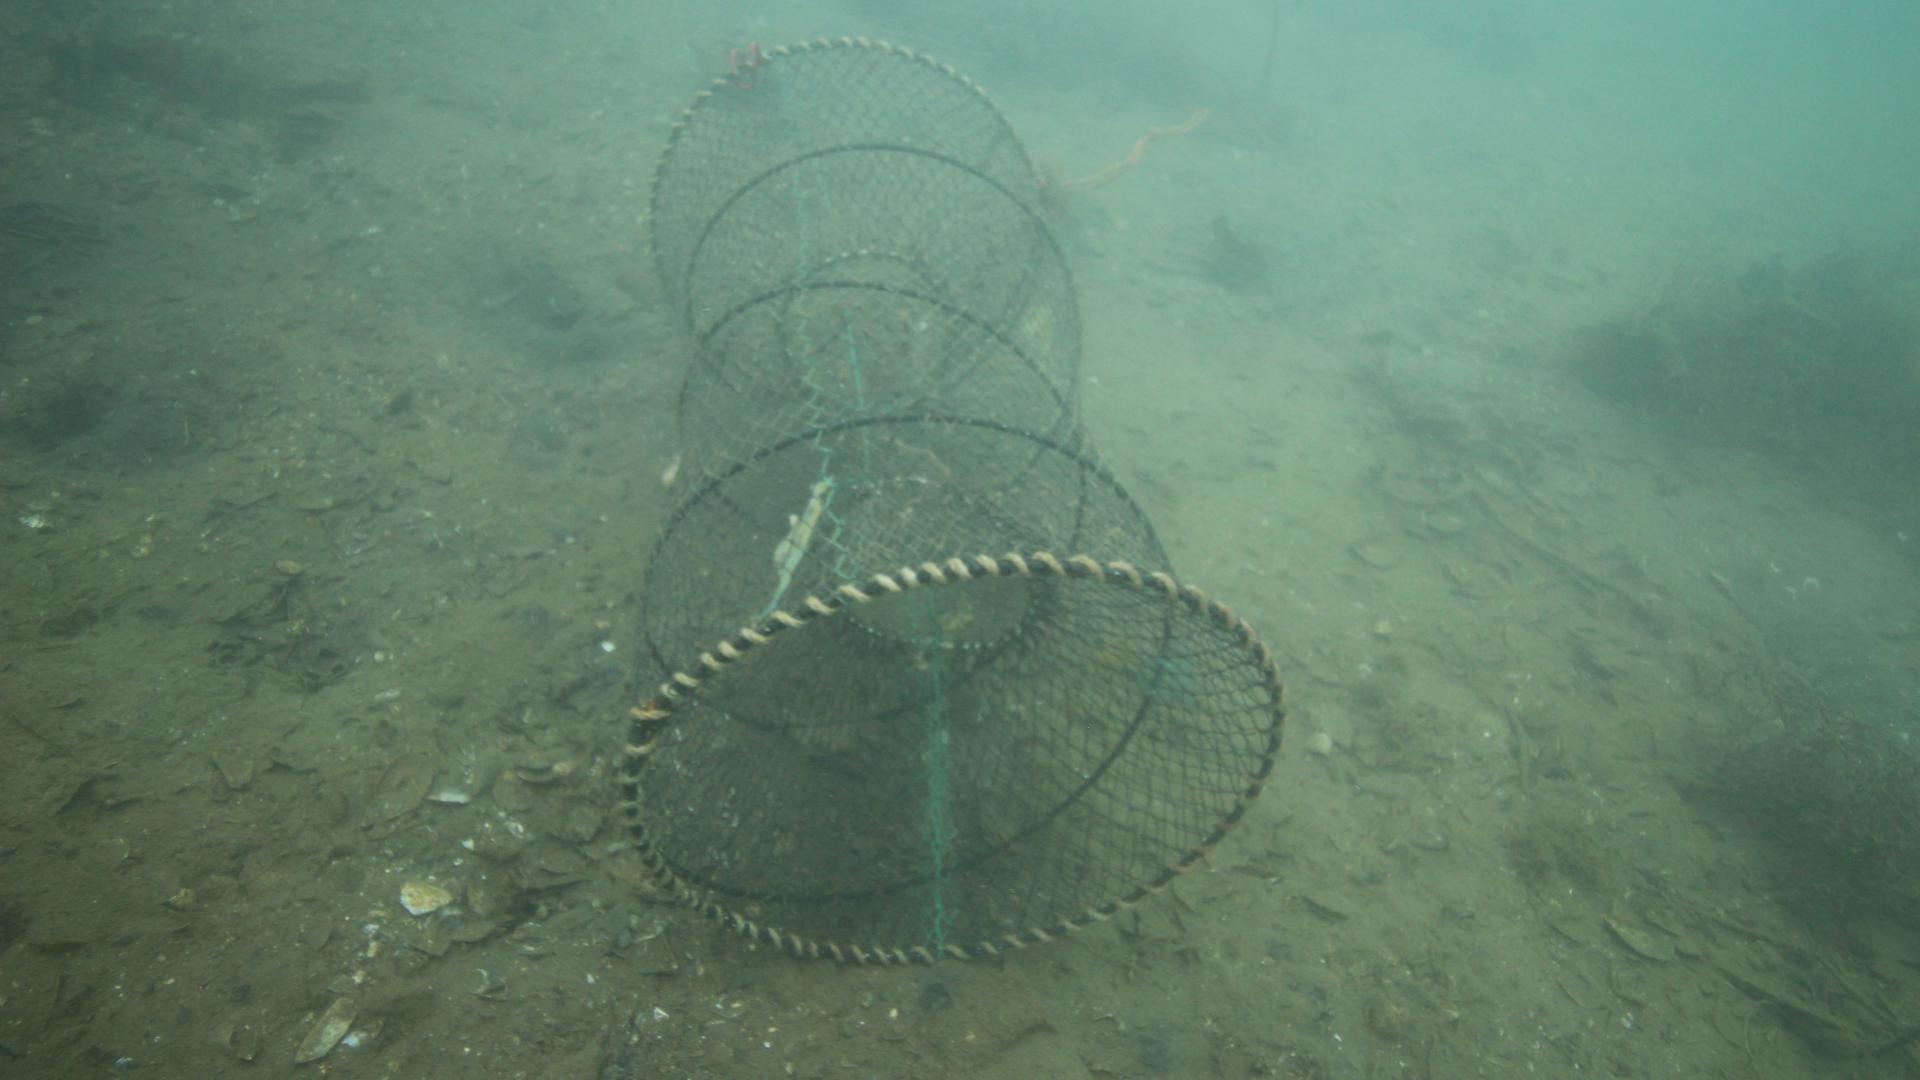bundle of ropes: (1060, 98, 1211, 194)
spring fish trap: (615, 32, 1290, 971)
